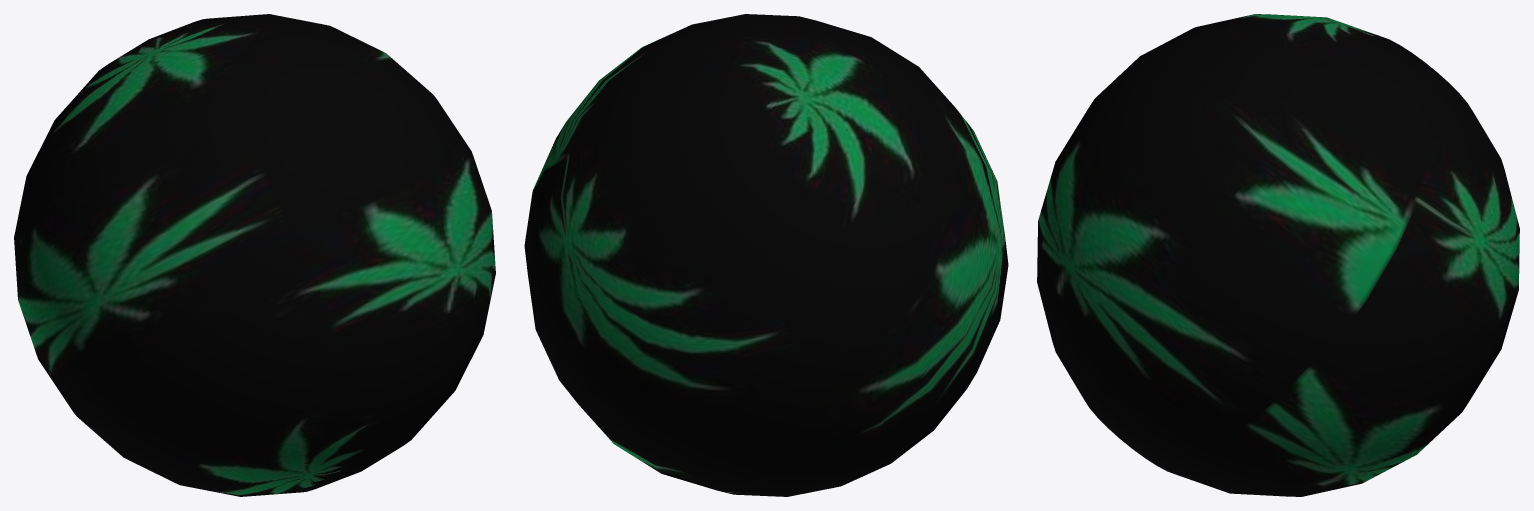
The picture shows the model from 3 angles, left to right: view 1: azimuth 30°, elevation 25°; view 2: azimuth 150°, elevation 25°; view 3: azimuth 270°, elevation 25°; orthographic projection.
Visible parts, largest first — view 1: Sphere; view 2: Sphere; view 3: Sphere.
Boxes of the visible parts, bbox=[...] form: Sphere: bbox=[14, 14, 495, 496]; Sphere: bbox=[524, 14, 1008, 496]; Sphere: bbox=[1037, 14, 1519, 496].
Size of the model in its own units: 197 by 199 by 199.
1 material, 1 textured.
